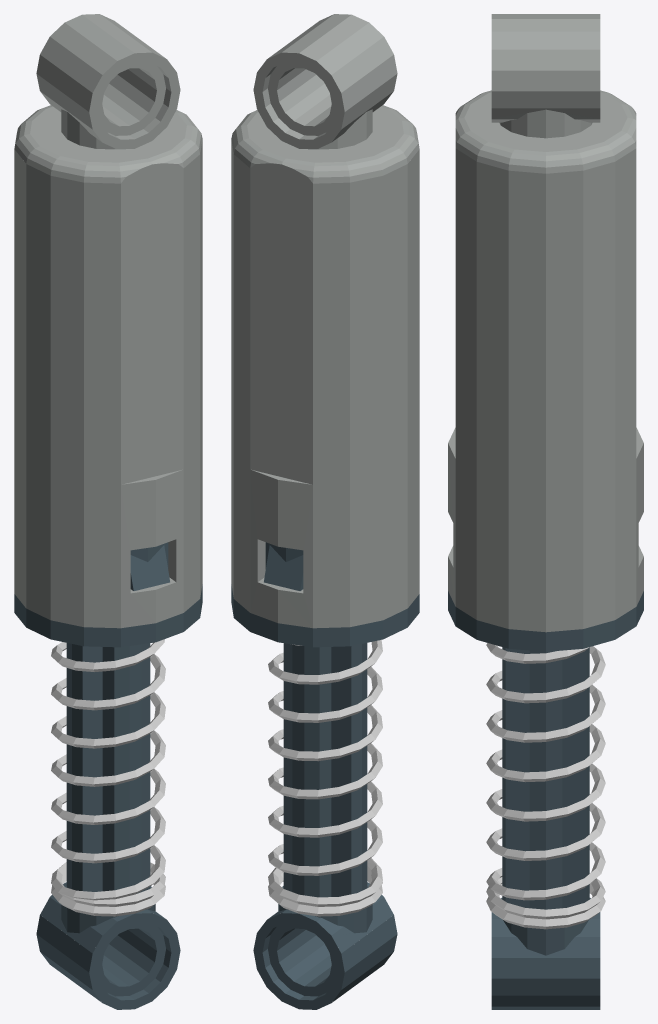
The picture shows the model from 3 angles, left to right: view 1: azimuth 30°, elevation 25°; view 2: azimuth 150°, elevation 25°; view 3: azimuth 270°, elevation 25°; orthographic projection. The views are drawn at different scales.
Parts seen in each view (by area): view 1: world; view 2: world; view 3: world.
Part boxes in pixels (<box>): world: <box>14,14,202,1009</box>; world: <box>231,14,419,1009</box>; world: <box>448,14,643,1009</box>.
Bounding box in the file's own units: 0.0144 × 0.08 × 0.0144.
